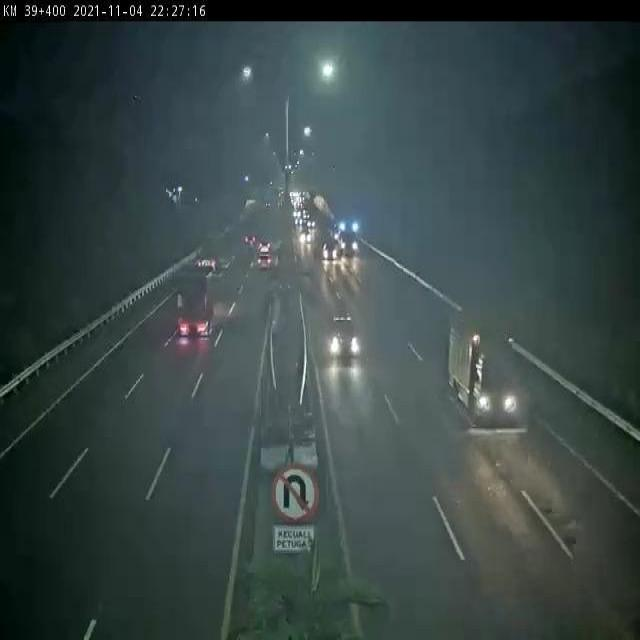car: (329, 313, 360, 359), (257, 253, 273, 272)
truck-m-: (447, 313, 519, 423), (175, 275, 217, 337), (194, 239, 222, 272)
